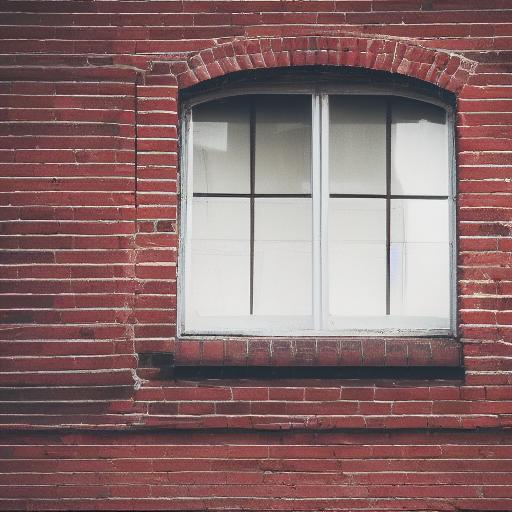Window: (138, 37, 481, 377)
